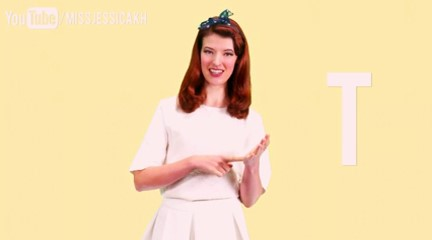T: (195, 131, 273, 180)
